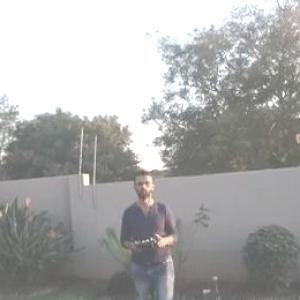follow: (118, 157, 182, 299)
